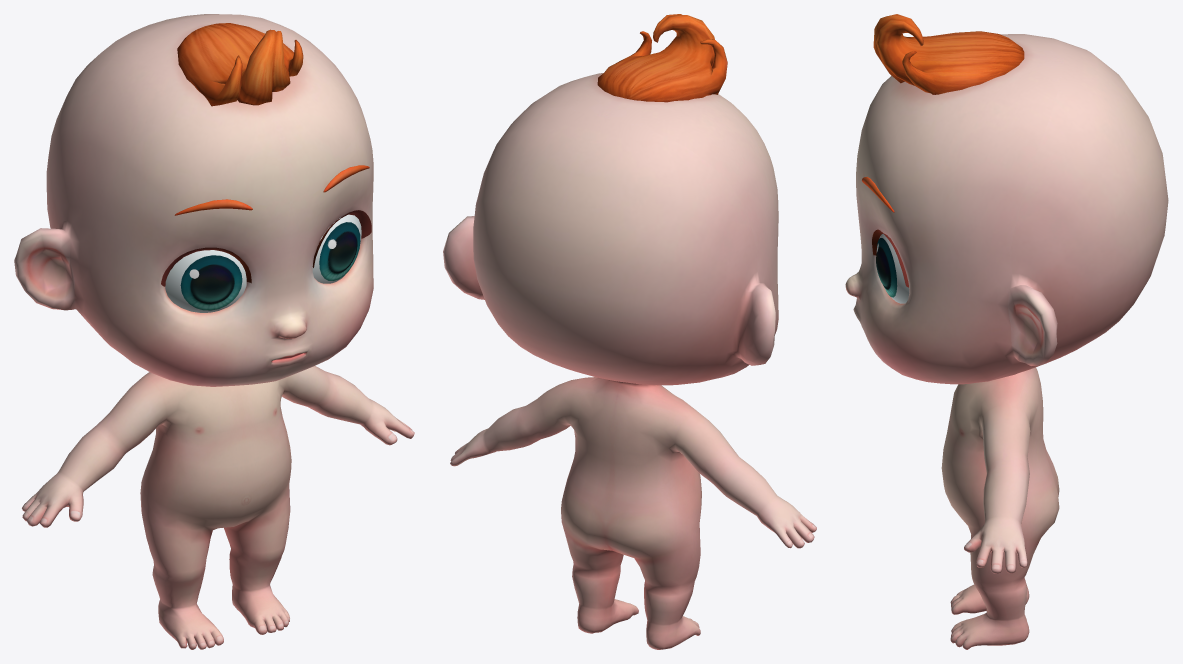
The model's file is 照顾JOJO-角色-JOJO.FBX.
The picture shows the model from 3 angles, left to right: view 1: azimuth 30°, elevation 25°; view 2: azimuth 150°, elevation 25°; view 3: azimuth 270°, elevation 25°; orthographic projection. The views are drawn at different scales.
Parts seen in each view (by area): view 1: 照顾JOJO-角色-JOJO; view 2: 照顾JOJO-角色-JOJO; view 3: 照顾JOJO-角色-JOJO.
Boxes of the visible parts, x1,y1,x2,y2 form: 照顾JOJO-角色-JOJO: (14, 14, 414, 649); 照顾JOJO-角色-JOJO: (443, 14, 816, 649); 照顾JOJO-角色-JOJO: (845, 14, 1168, 649).
Size of the model in its own units: 47.98 by 74.9 by 36.
Materials: 2 (2 with a texture image).
